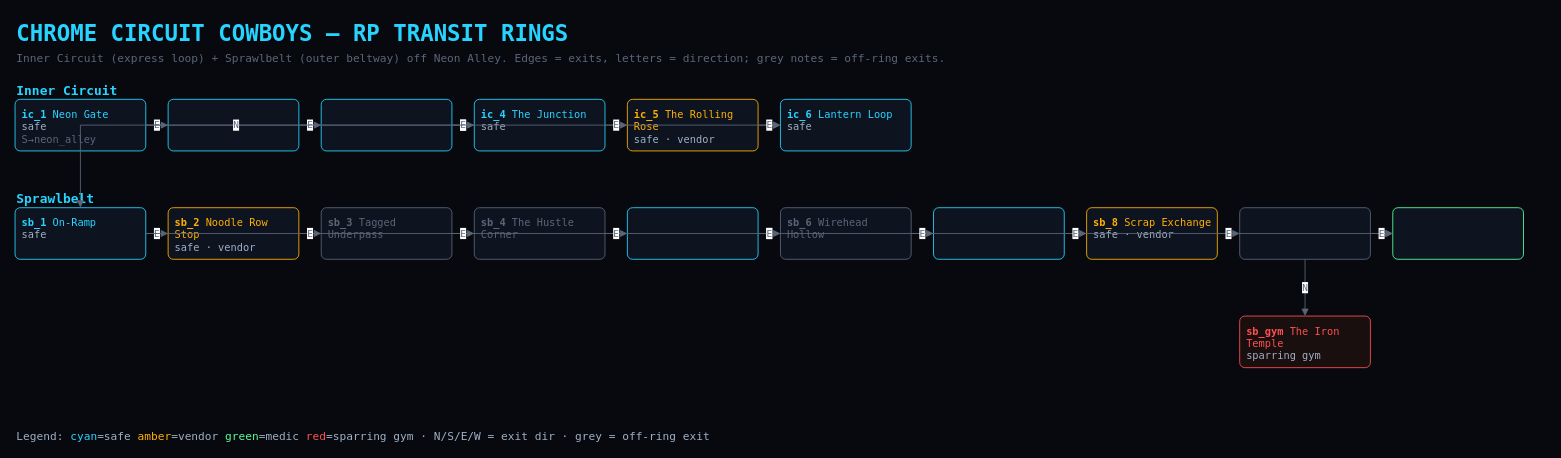
Some shapes in this 1561 by 458 pixel diagram are drawn without their labels. Here are the shapes that lost their labels. From the top down, the centre of each, then its label:
At (233,124): "ic_2 Busker's Span safe".
At (386,124): "ic_3 Mirrorglass Curve safe".
At (692,233): "sb_5 The Fortune Stall safe".
At (998,233): "sb_7 The Long Awning safe".
At (1304,233): "sb_9 The Stripped Lot".
At (1457,233): "sb_10 The Mending Stop safe · medic".
